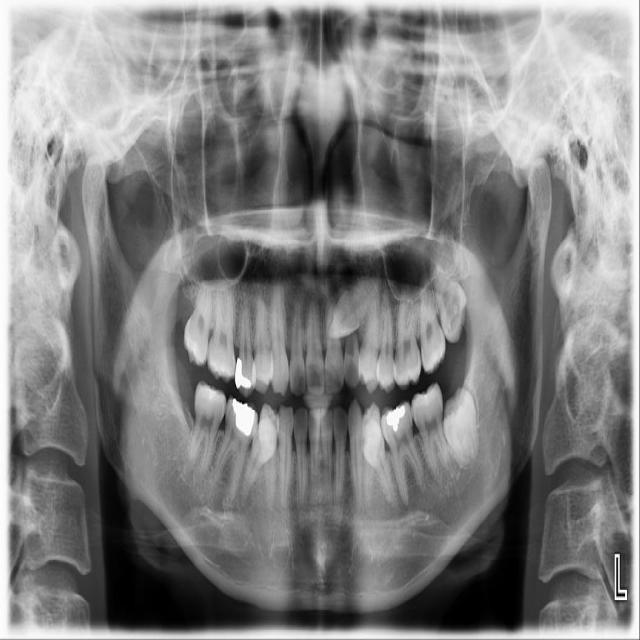52: (373, 397, 424, 449), (223, 394, 259, 448), (232, 350, 258, 399), (440, 288, 468, 333)
73: (616, 598, 624, 608)
BioHorizons Implant: (418, 268, 447, 375)
BioLife Implant: (429, 262, 474, 344)
Biomet 3i Implant: (437, 385, 484, 469)
Blue Sky Bio Implant: (408, 382, 451, 482)
Caries: (181, 272, 216, 368)
Implant: (186, 379, 229, 478)
